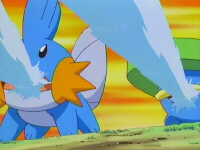mudkip: (1, 1, 107, 136)
